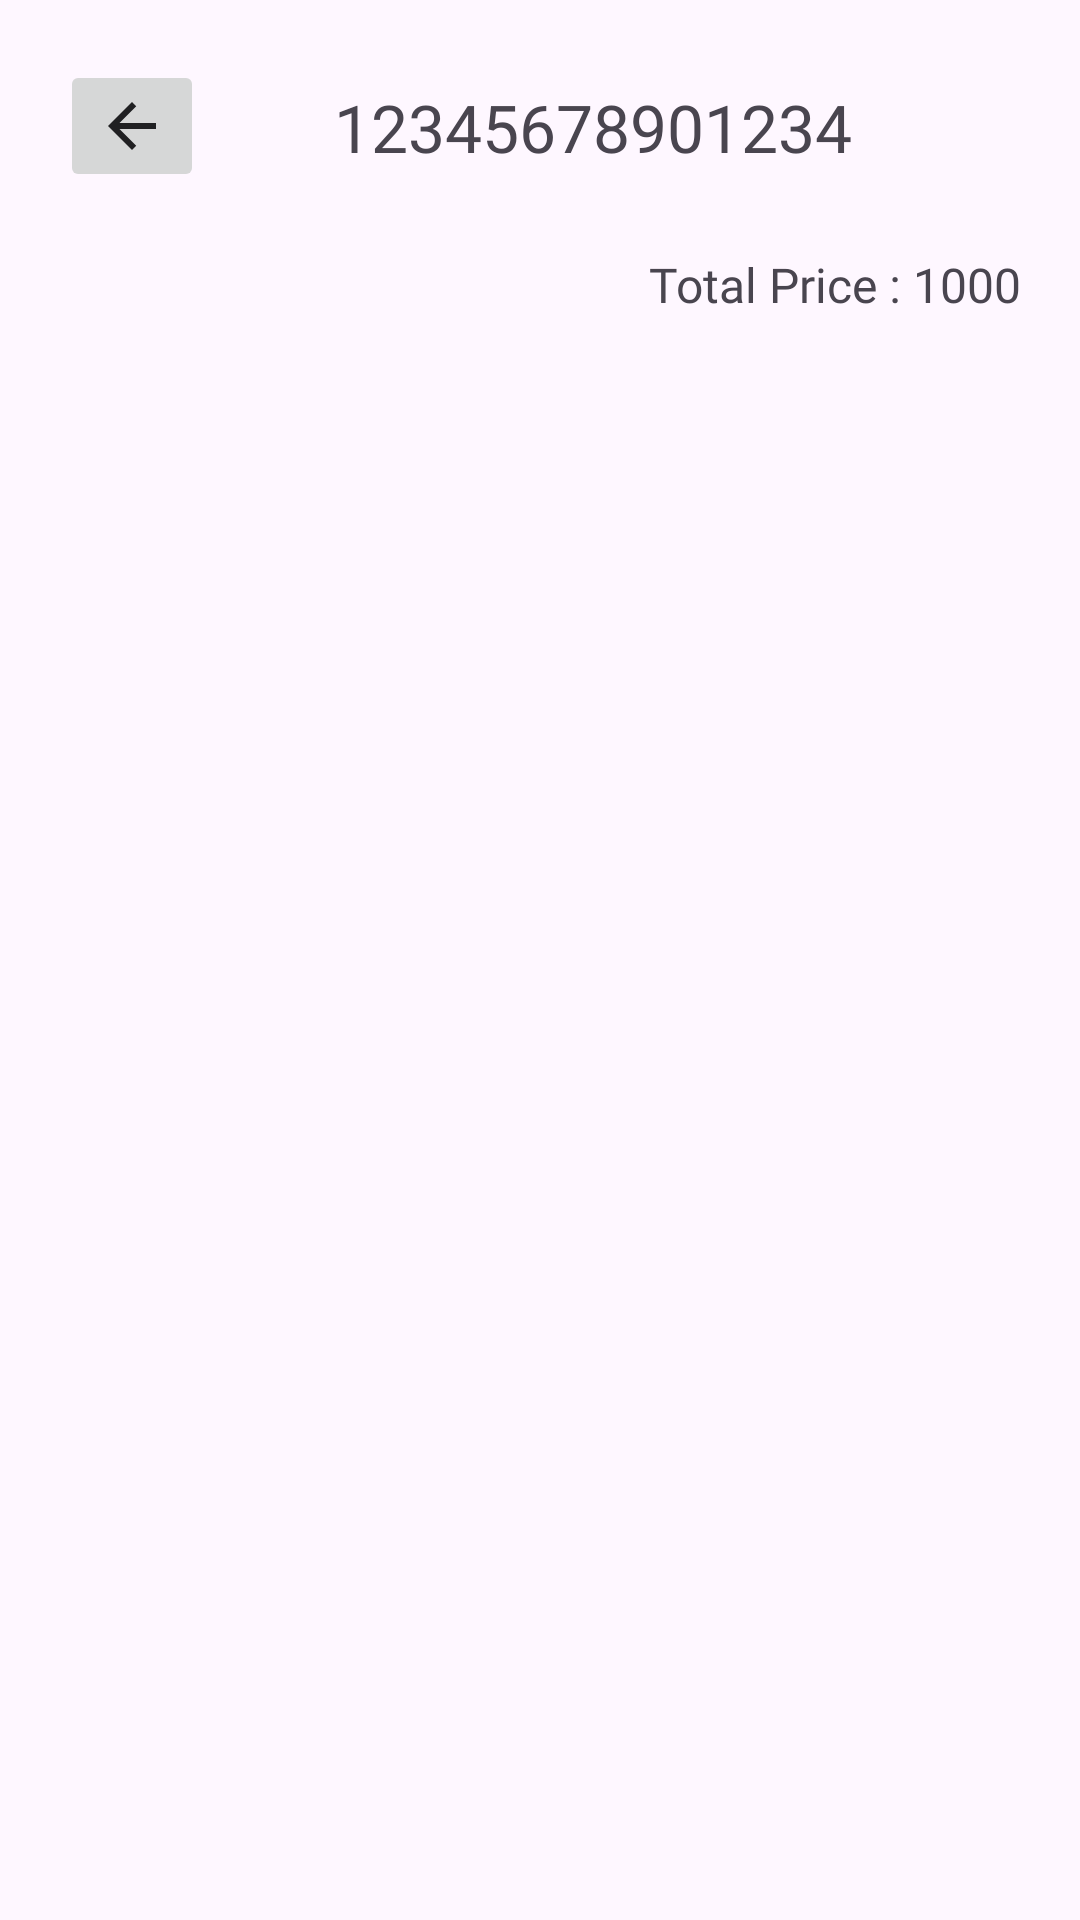

Locate icon controls on the screen. Image size 1080x1920, boxes as bbox=[x1, y1, x2, y2].
arrow back: bbox=[72, 78, 192, 174]
